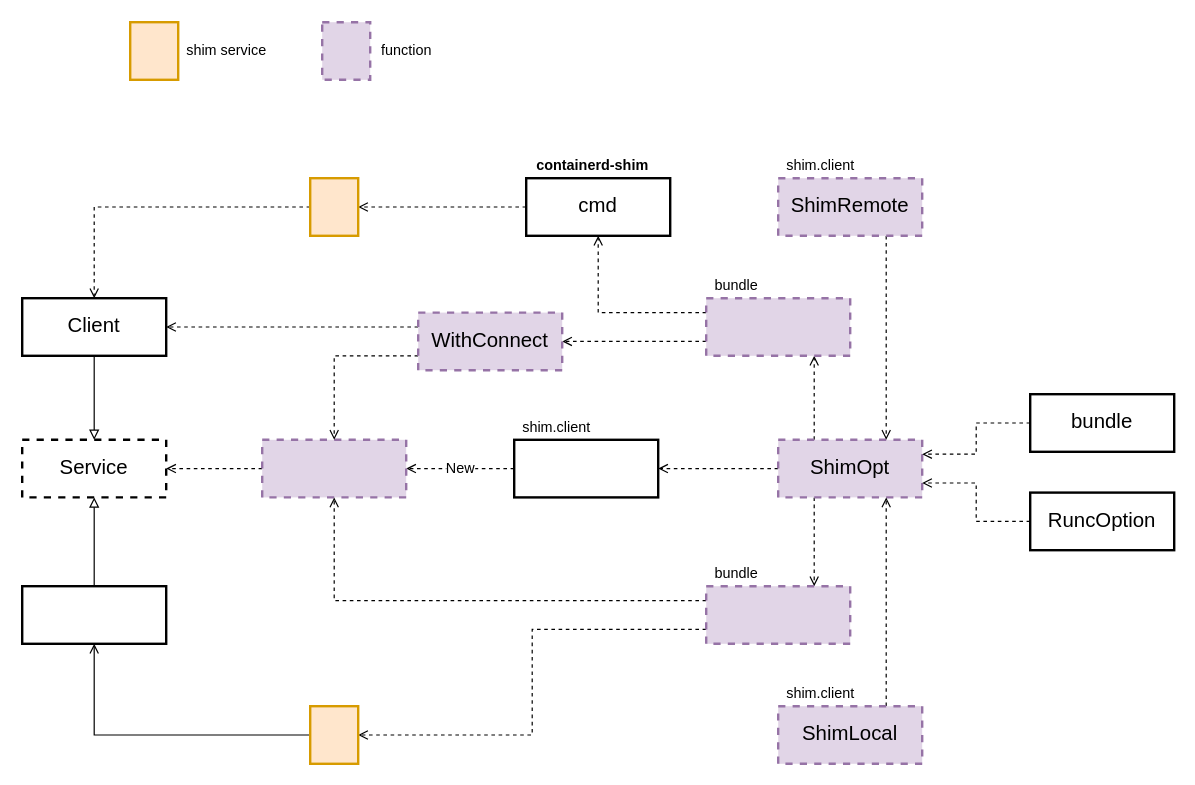
Image size: 1195x785. Some labels were removed from this diagram. The shapes that lost their labels are listed below. From the top down, each one's box as (x1, y1, x2, y2) in pixels, then its label:
(704, 296, 851, 356): WithStart
(260, 438, 407, 498): Opt
(512, 438, 659, 498): Config
(20, 584, 167, 644): local
(704, 584, 851, 644): WithLocal
